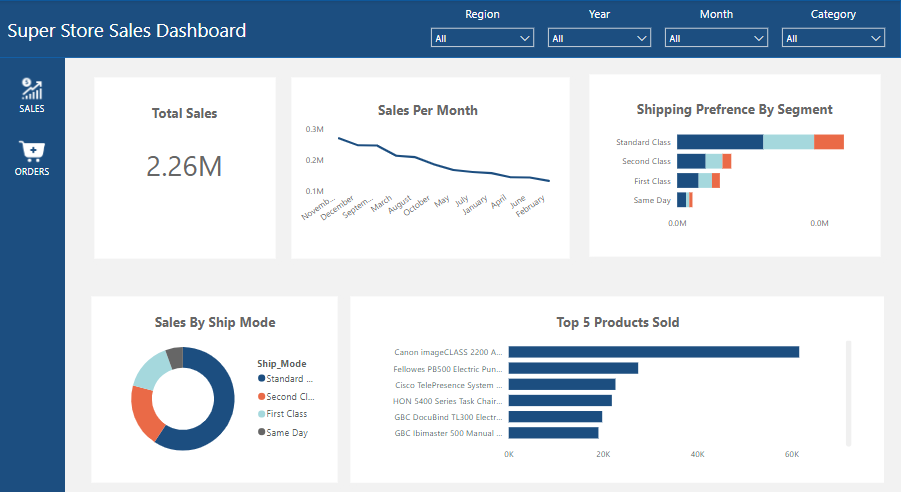

This screenshot's page, from the dashboard's own definition file:
{"tool":"powerbi","page":{"name":"SALES","canvas":[1280,720],"ordinal":0},"visuals":[{"type":"group","id":"g1","title":"Group 1","box":[0,45.4,95,652],"z":0},{"type":"shape","box":[0,45.4,95,652],"z":0,"group":"g1"},{"type":"shape","box":[128.2,100,275,275],"z":0,"group":"g2"},{"type":"shape","box":[406.8,100.6,412.4,275],"z":0,"group":"g4"},{"type":"shape","box":[0,0,1279.8,82.2],"z":1000},{"type":"slicer","title":"Region","fields":{"Values":["superstore_final_dataset (1).Region"]},"box":[603.8,8.5,165.8,65.2],"z":2000},{"type":"slicer","title":"Year","fields":{"Values":["superstore_final_dataset (1).YearName"]},"box":[769.6,8.5,165.8,65.2],"z":3000},{"type":"lineChart","title":"Sales Per Month","fields":{"Y":["Sum(superstore_final_dataset (1).Sales)"],"Category":["superstore_final_dataset (1).MonthName"]},"box":[422.7,143.6,374.2,182.8],"z":3000,"group":"g4"},{"type":"slicer","title":"Month","fields":{"Values":["superstore_final_dataset (1).MonthName"]},"box":[935.4,8.5,165.8,65.2],"z":4000},{"type":"slicer","title":"Category","fields":{"Values":["superstore_final_dataset (1).Category"]},"box":[1101.3,8.5,165.8,65.2],"z":5000},{"type":"group","id":"g2","title":"Group 1","box":[128.2,100,275,275],"z":6000},{"type":"shape","box":[123.3,411,367.1,282],"z":7000},{"type":"donutChart","title":"Sales By Ship Mode","fields":{"Y":["Sum(superstore_final_dataset (1).Sales)"],"Category":["superstore_final_dataset (1).Ship_Mode"]},"box":[151.7,443.6,311.8,218.3],"z":8000},{"type":"shape","box":[490.5,411.5,774.4,282.2],"z":9000},{"type":"barChart","title":"Top 5 Products Sold","fields":{"Category":["superstore_final_dataset (1).Product_Name"],"Y":["Sum(superstore_final_dataset (1).Sales)"]},"box":[542.6,443.5,671.9,218.4],"z":10000},{"type":"group","id":"g3","title":"Group 2","box":[829.1,96.4,430.9,276.4],"z":11000},{"type":"shape","box":[829.1,96.4,430.9,276.4],"z":12000,"group":"g3"},{"type":"group","id":"g4","title":"Group 3","box":[406.8,100.6,412.4,275],"z":12000},{"type":"actionButton","box":[7.1,96.4,82.2,75.1],"z":13000},{"type":"barChart","title":"Shipping Prefrence By Segment","fields":{"Category":["superstore_final_dataset (1).Ship_Mode"],"Series":["superstore_final_dataset (1).Segment"],"Y":["CountNonNull(superstore_final_dataset (1).Order_ID)"]},"box":[864.2,141.8,359.1,192.8],"z":13000,"group":"g3"},{"type":"actionButton","box":[7.1,185.7,82.2,75.1],"z":14000},{"type":"card","title":"Total Sales","fields":{"Values":["Sum(superstore_final_dataset (1).Sales)"]},"box":[160.2,147.4,208.3,147.4],"z":14500,"group":"g2"}]}

Visuals, with their boxes on the page's 1280x720 design canvas (x1, y1, x2, y2). These are canvas units, not pixel positions in the 901x492 screenshot, which may show the page scaled, cropped or inside an application window:
"Group 1" group: bbox=[0, 45, 95, 697]
shape: bbox=[0, 45, 95, 697]
shape: bbox=[128, 100, 403, 375]
shape: bbox=[407, 101, 819, 376]
shape: bbox=[0, 0, 1280, 82]
"Region" slicer: bbox=[604, 8, 770, 74]
"Year" slicer: bbox=[770, 8, 935, 74]
"Sales Per Month" lineChart: bbox=[423, 144, 797, 326]
"Month" slicer: bbox=[935, 8, 1101, 74]
"Category" slicer: bbox=[1101, 8, 1267, 74]
"Group 1" group: bbox=[128, 100, 403, 375]
shape: bbox=[123, 411, 490, 693]
"Sales By Ship Mode" donutChart: bbox=[152, 444, 464, 662]
shape: bbox=[490, 412, 1265, 694]
"Top 5 Products Sold" barChart: bbox=[543, 444, 1214, 662]
"Group 2" group: bbox=[829, 96, 1260, 373]
shape: bbox=[829, 96, 1260, 373]
"Group 3" group: bbox=[407, 101, 819, 376]
actionButton: bbox=[7, 96, 89, 172]
"Shipping Prefrence By Segment" barChart: bbox=[864, 142, 1223, 335]
actionButton: bbox=[7, 186, 89, 261]
"Total Sales" card: bbox=[160, 147, 368, 295]
